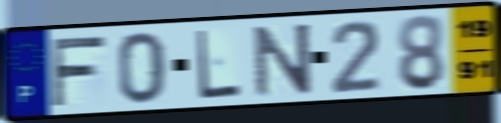0: (115, 30, 168, 106)
2: (328, 17, 386, 95)
8: (393, 12, 447, 93)
F: (48, 33, 109, 109)
L: (194, 26, 243, 101)
N: (251, 20, 316, 100)
